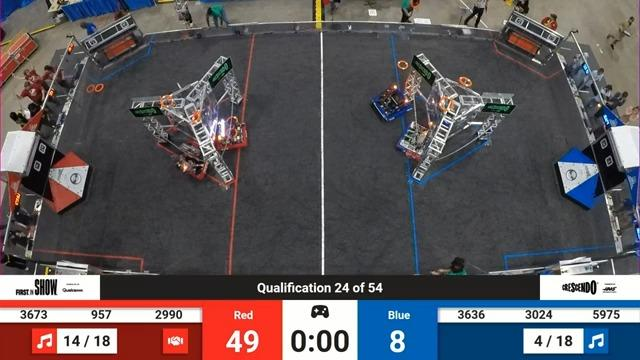robot: (370, 83, 412, 123), (393, 128, 437, 165), (212, 118, 254, 156), (174, 141, 211, 184), (161, 79, 197, 113)
